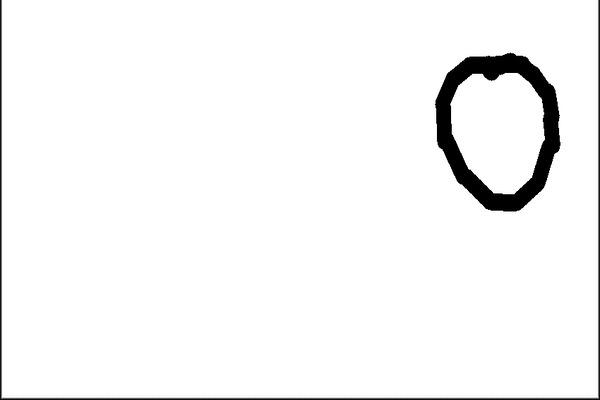O: (415, 39, 571, 218)
